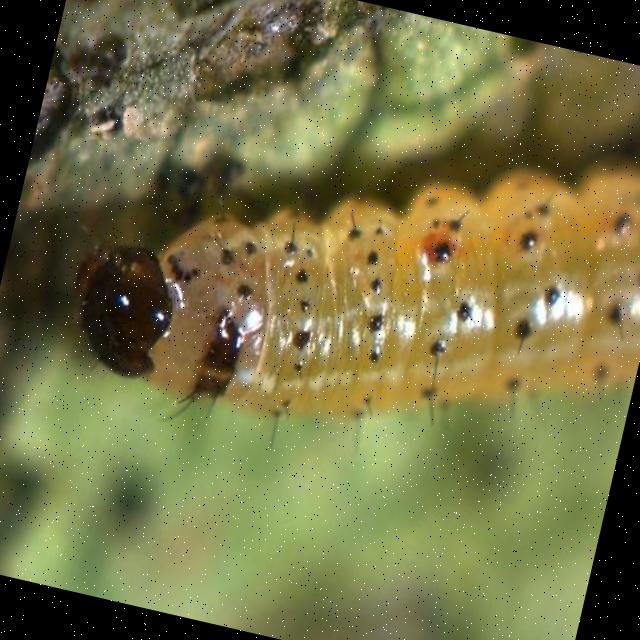worm: (44, 44, 640, 529), (52, 229, 189, 389)
